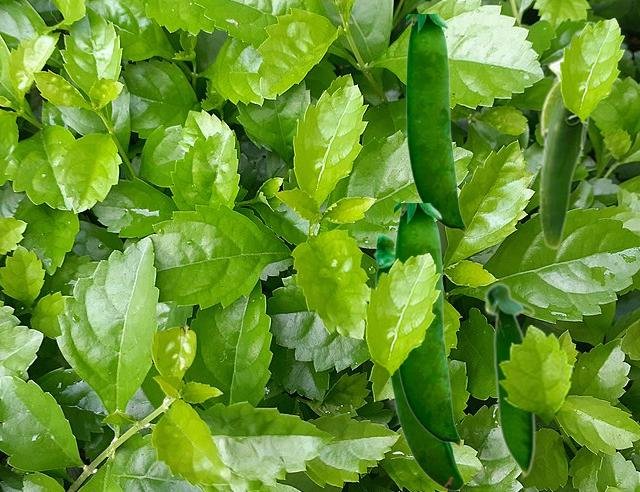pea: (373, 232, 463, 490), (394, 203, 460, 447), (406, 14, 465, 233), (538, 43, 594, 249), (483, 281, 535, 480)
